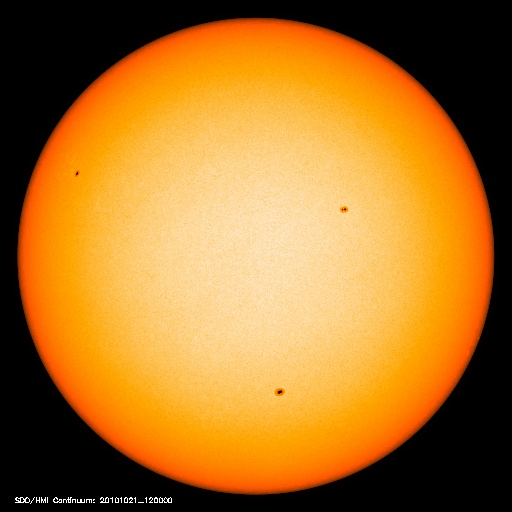sunspot: (64, 158, 90, 190), (265, 379, 293, 407), (328, 196, 359, 220)
